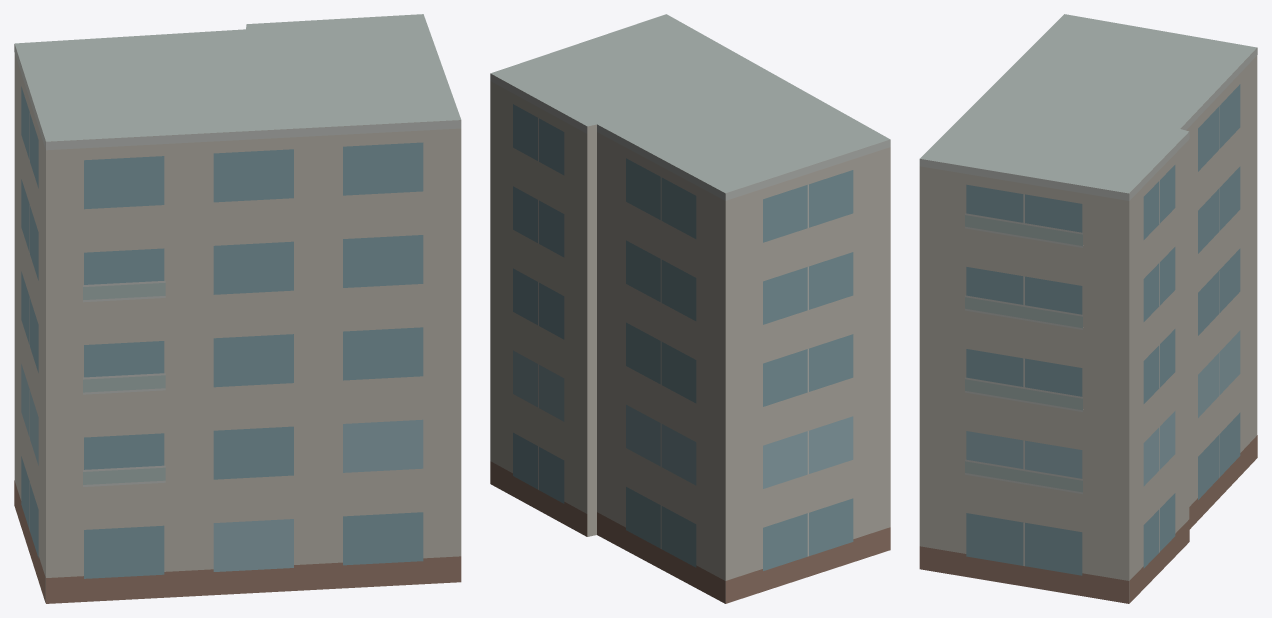
File: survey-upis-32778763.glb
The picture shows the model from 3 angles, left to right: view 1: azimuth 30°, elevation 25°; view 2: azimuth 150°, elevation 25°; view 3: azimuth 270°, elevation 25°; orthographic projection. The views are drawn at different scales.
Visible parts, largest first — view 1: survey-upis-32778763.tmp; view 2: survey-upis-32778763.tmp; view 3: survey-upis-32778763.tmp.
Part boxes in pixels (x1,y1,x2,y2): survey-upis-32778763.tmp: [14, 14, 461, 603]; survey-upis-32778763.tmp: [490, 14, 890, 603]; survey-upis-32778763.tmp: [919, 14, 1257, 603].
Bounding box in the file's own units: 12.39 × 13.2 × 9.86.
